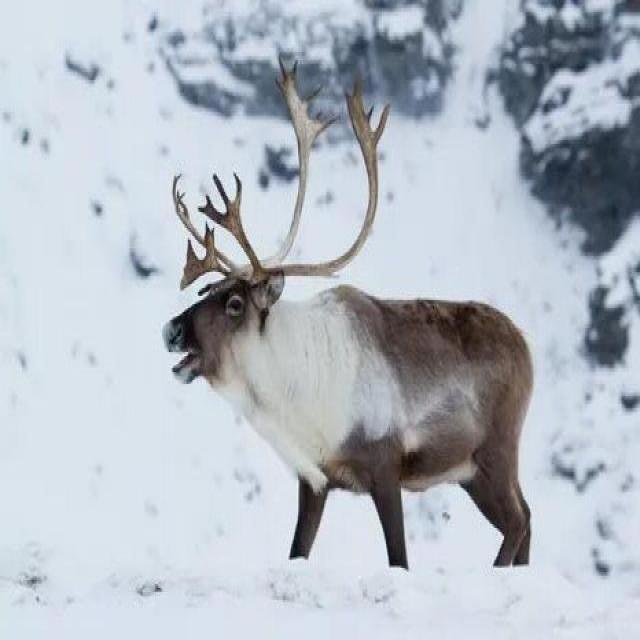deer: (131, 131, 574, 605)
